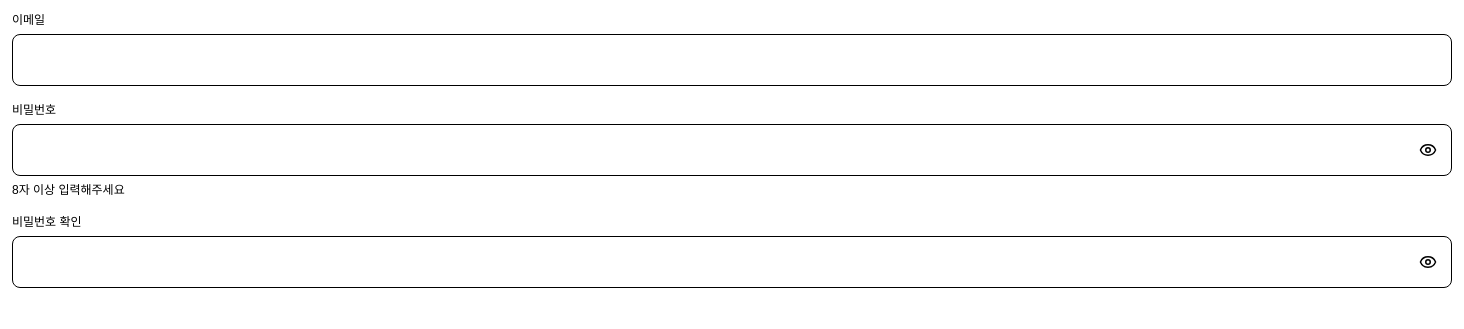
Test case: SignupForm › should show 강함 when password has high variety
The image size is (1464, 329).
Type "Password1!" into the password field labelled "비밀번호" at (732, 150), box [12,124,1452,176]
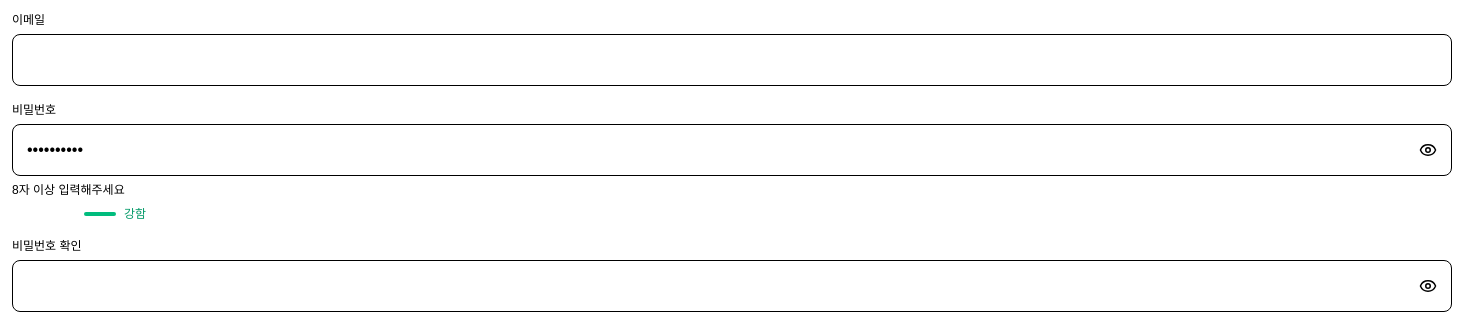
Now the text "강함" is shown, box [124,206,146,222]
